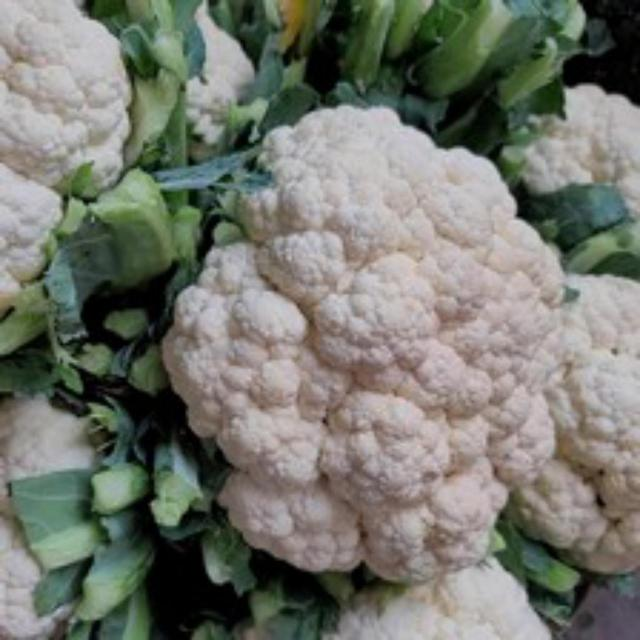cauliflower: (158, 95, 577, 586)
